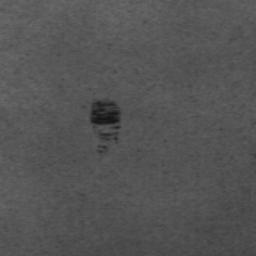Secondary rust skin: (91, 98, 122, 155)
